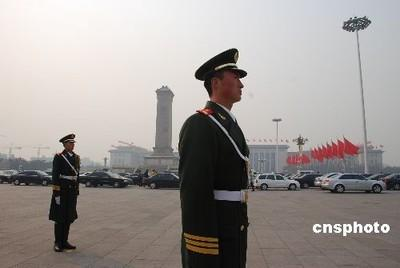up: (175, 47, 251, 265), (39, 130, 83, 255)
